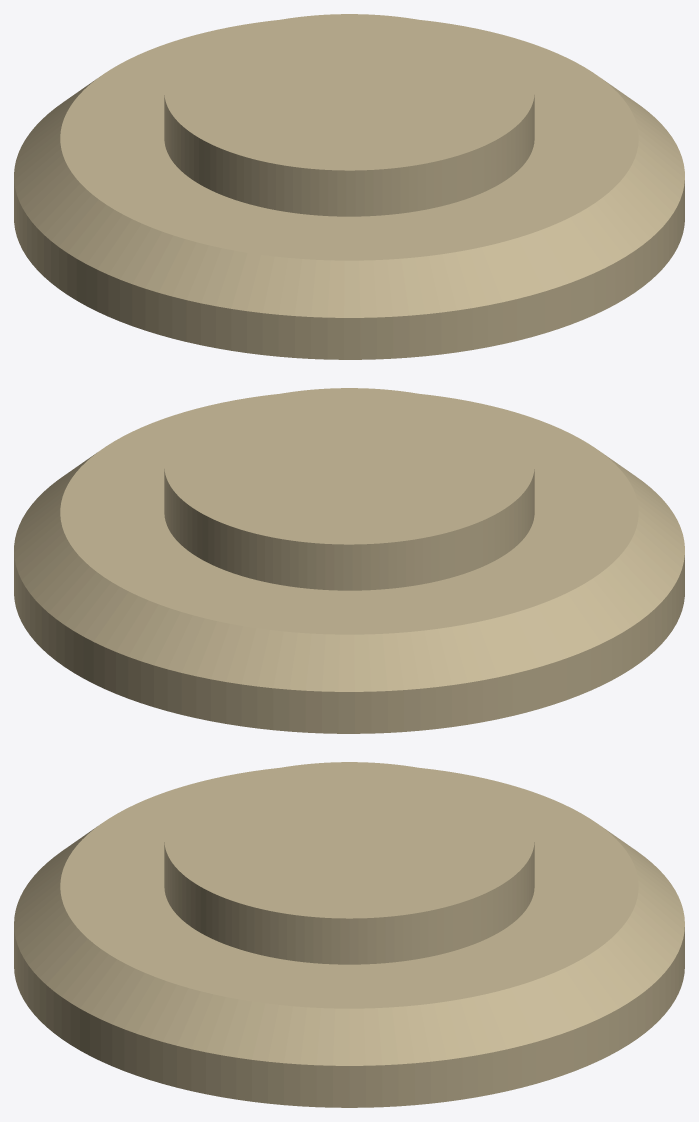
Rendered from tidal-vessel--limestone.glb.
The picture shows the model from 3 angles, top to bottom: view 1: azimuth 30°, elevation 25°; view 2: azimuth 150°, elevation 25°; view 3: azimuth 270°, elevation 25°; orthographic projection.
Visible parts, largest first — view 1: tidal-vessel; view 2: tidal-vessel; view 3: tidal-vessel.
Boxes of the visible parts, <box> form: tidal-vessel: <box>14,14,684,359</box>; tidal-vessel: <box>14,388,684,733</box>; tidal-vessel: <box>14,762,684,1107</box>.
Size of the model in its own units: 2.32 by 0.48 by 2.32.
